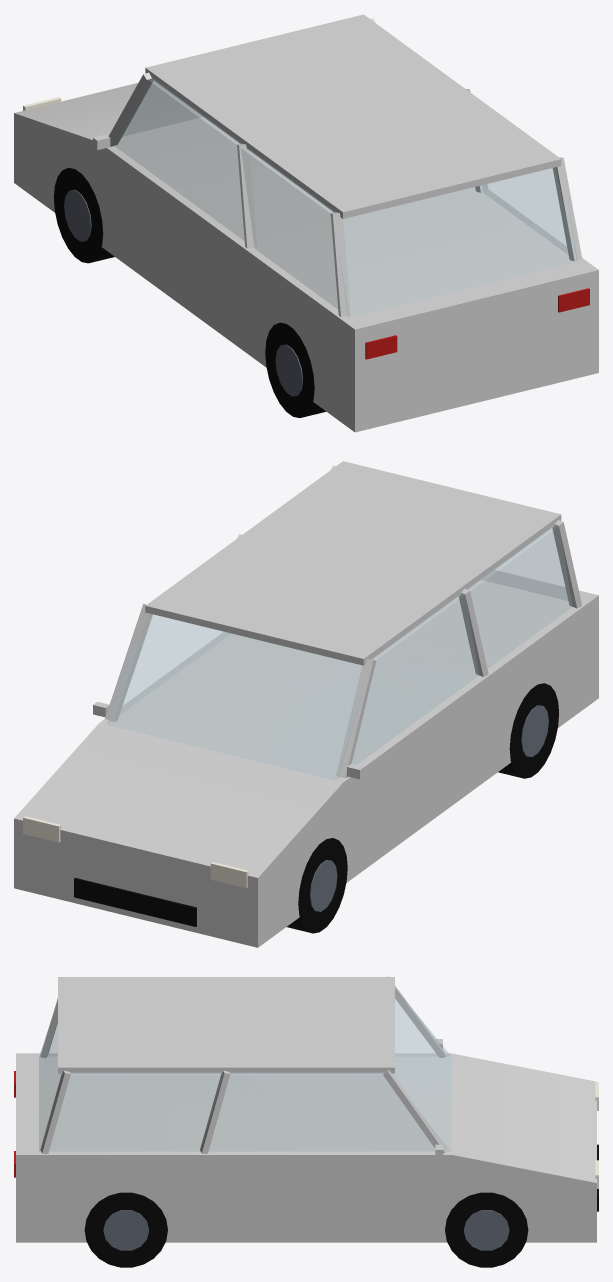
The model's file is vehicle.car.suv_white.glb.
The picture shows the model from 3 angles, top to bottom: view 1: azimuth 30°, elevation 25°; view 2: azimuth 150°, elevation 25°; view 3: azimuth 270°, elevation 25°; orthographic projection. The views are drawn at different scales.
Parts seen in each view (by area): view 1: main__car_white, main__glass, main__rubber, main__steel_painted, main__hazard_red; view 2: main__car_white, main__glass, main__rubber, main__plastic_black, main__steel_painted, main__light_emitter; view 3: main__car_white, main__glass, main__rubber, main__steel_painted.
Boxes of the visible parts, x1=… form: main__car_white: x1=14, y1=14, x2=598, y2=432; main__glass: x1=115, y1=78, x2=577, y2=317; main__rubber: x1=54, y1=167, x2=325, y2=417; main__steel_painted: x1=64, y1=189, x2=302, y2=396; main__hazard_red: x1=365, y1=288, x2=589, y2=359; main__car_white: x1=14, y1=461, x2=598, y2=947; main__glass: x1=107, y1=525, x2=572, y2=780; main__rubber: x1=287, y1=683, x2=558, y2=933; main__plastic_black: x1=74, y1=878, x2=196, y2=926; main__steel_painted: x1=310, y1=705, x2=548, y2=911; main__light_emitter: x1=23, y1=816, x2=248, y2=888; main__car_white: x1=16, y1=976, x2=596, y2=1242; main__glass: x1=39, y1=991, x2=451, y2=1151; main__rubber: x1=84, y1=1192, x2=528, y2=1267; main__steel_painted: x1=103, y1=1210, x2=509, y2=1250.
Bounding box in the file's own units: 2.08 × 1.7 × 4.63.
